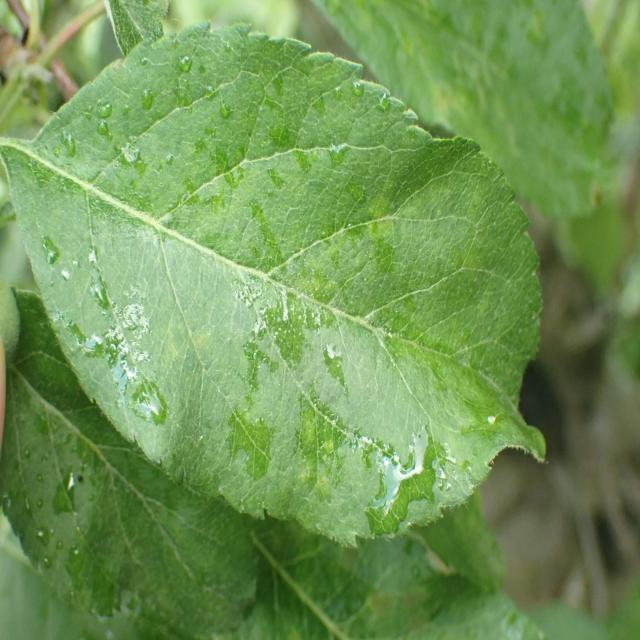scab: (60, 56, 434, 518), (394, 0, 611, 206)
